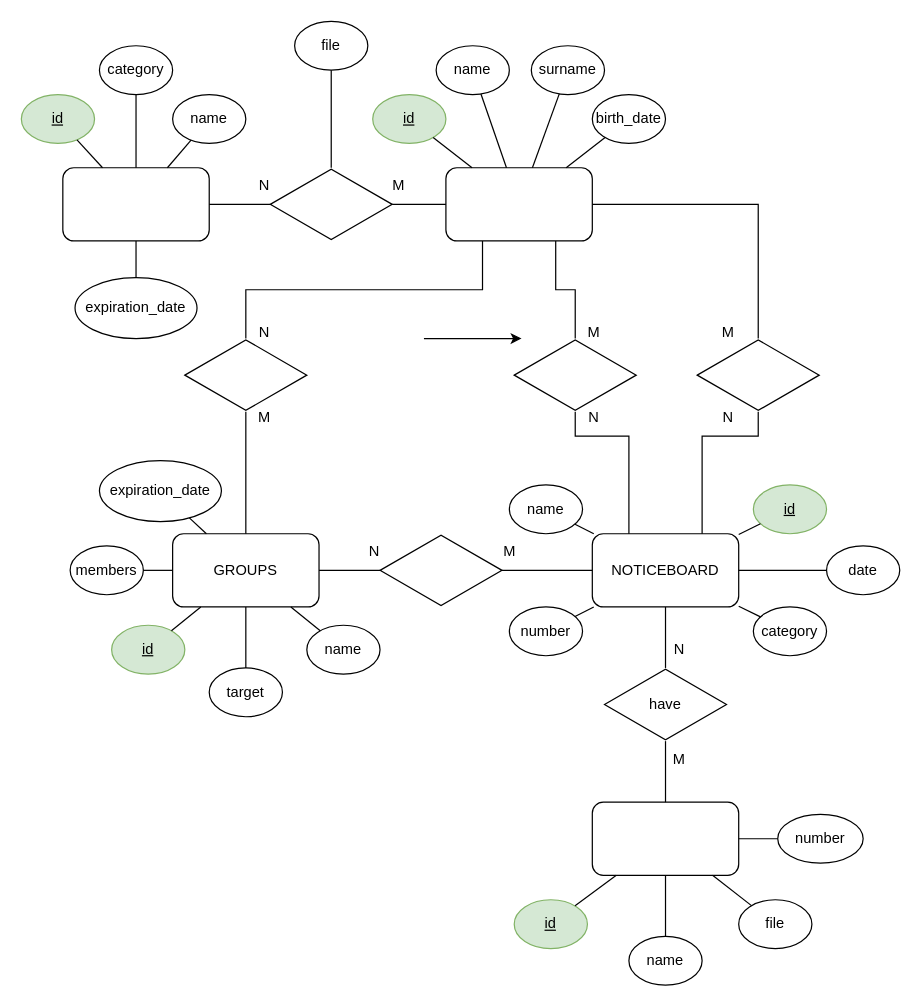
This 921x1007 diagram has some shape labels left out. The centre of each missing label's shape, as x and y in pixels:
"ATTACHMENT" belongs at (x=665, y=838).
"compiles" belongs at (x=330, y=204).
"has_viewed" belongs at (x=574, y=374).
"is part of" belongs at (x=245, y=374).
"likes/saves" belongs at (x=757, y=374).
"MODULE" belongs at (x=135, y=204).
"refers" belongs at (x=440, y=570).
"USERS" belongs at (x=518, y=204).
